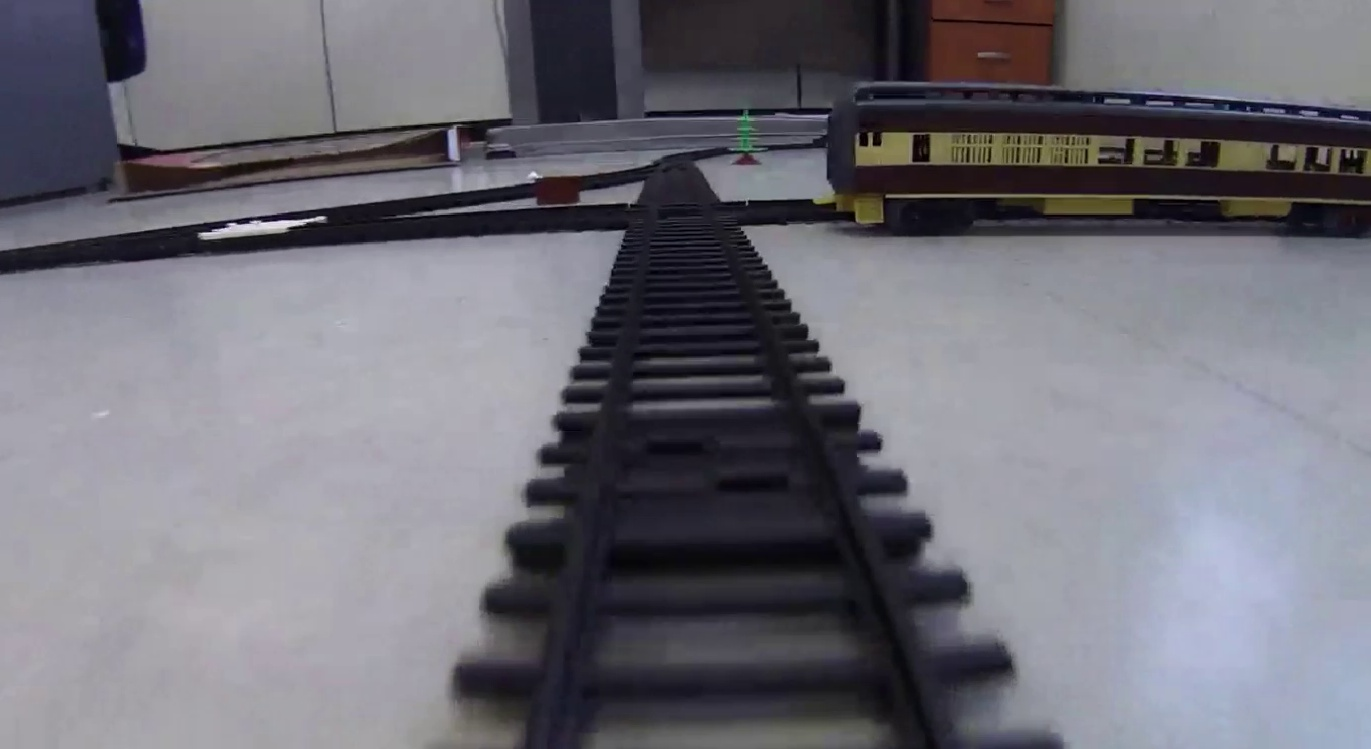box: (533, 175, 581, 205)
tree: (729, 110, 764, 169)
